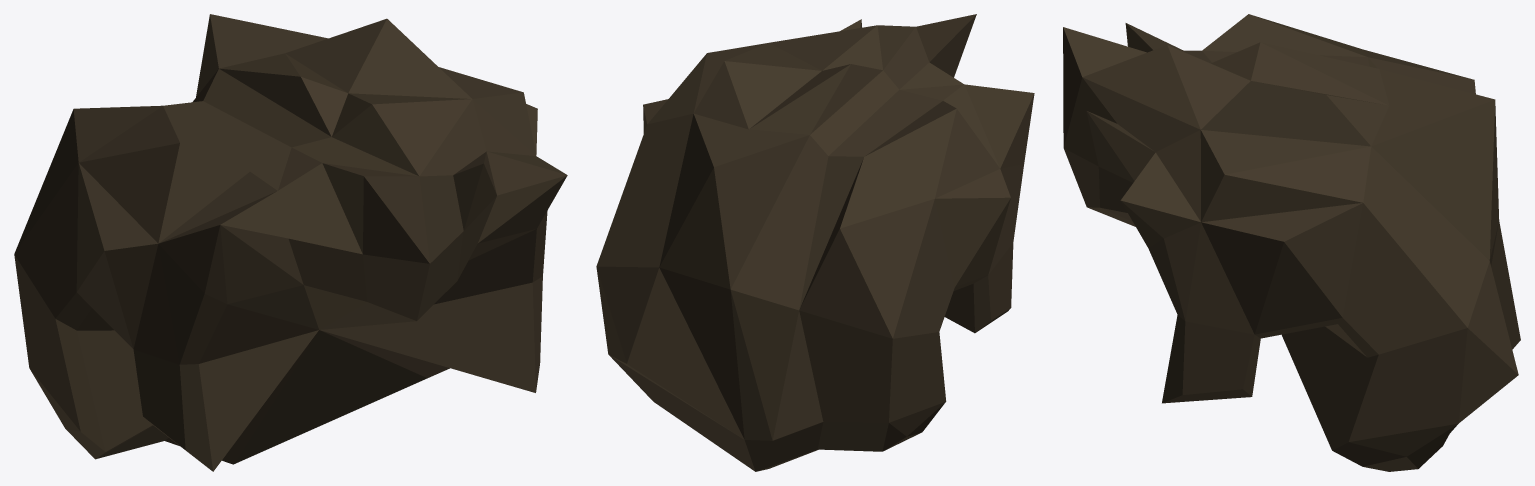
Rendered from SM_Chr_Attach_Hair_Male_06.fbx.
3 views of the same model, side by side, from view 1: azimuth 30°, elevation 25°; view 2: azimuth 150°, elevation 25°; view 3: azimuth 270°, elevation 25° (orthographic). The views are drawn at different scales.
Parts seen in each view (by area): view 1: SM_Chr_Attach_Hair_Male_06; view 2: SM_Chr_Attach_Hair_Male_06; view 3: SM_Chr_Attach_Hair_Male_06.
Part boxes in pixels (x1,y1,x2,y2): SM_Chr_Attach_Hair_Male_06: (14,14,567,471); SM_Chr_Attach_Hair_Male_06: (596,14,1034,471); SM_Chr_Attach_Hair_Male_06: (1063,14,1520,471).
Bounding box in the file's own units: 28.28 × 27.7 × 28.1.
